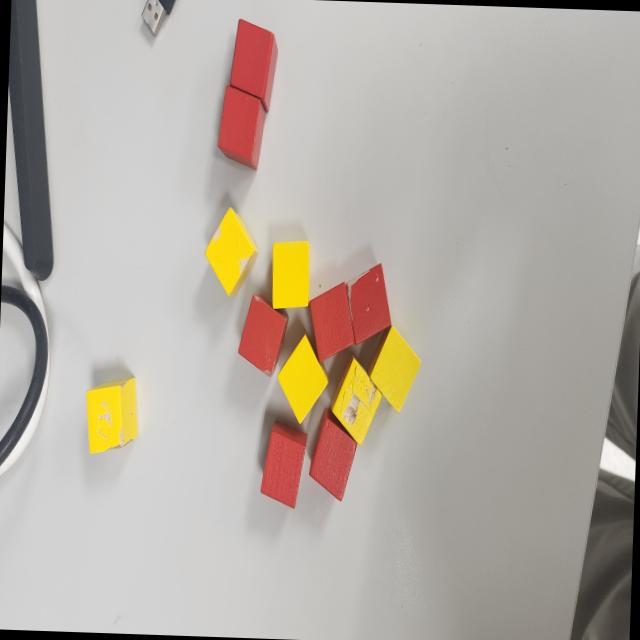broken: (202, 204, 260, 296), (329, 354, 383, 448), (83, 374, 140, 456), (342, 260, 393, 346), (236, 293, 287, 378)
red: (307, 406, 360, 504), (228, 16, 279, 113), (260, 419, 308, 510), (306, 279, 356, 366), (216, 83, 266, 169)
yellow: (274, 330, 330, 428), (366, 322, 422, 417), (268, 236, 310, 313)
